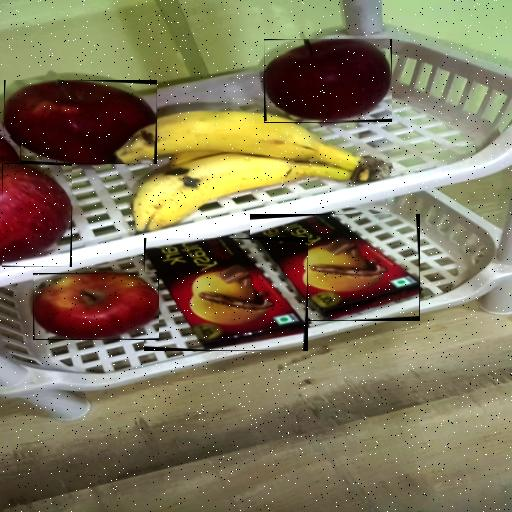Apple: (4, 80, 157, 164), (264, 40, 392, 124), (33, 273, 159, 340), (2, 164, 72, 267), (2, 137, 21, 163)
Choco Fills: (144, 238, 308, 351), (250, 214, 420, 321)
